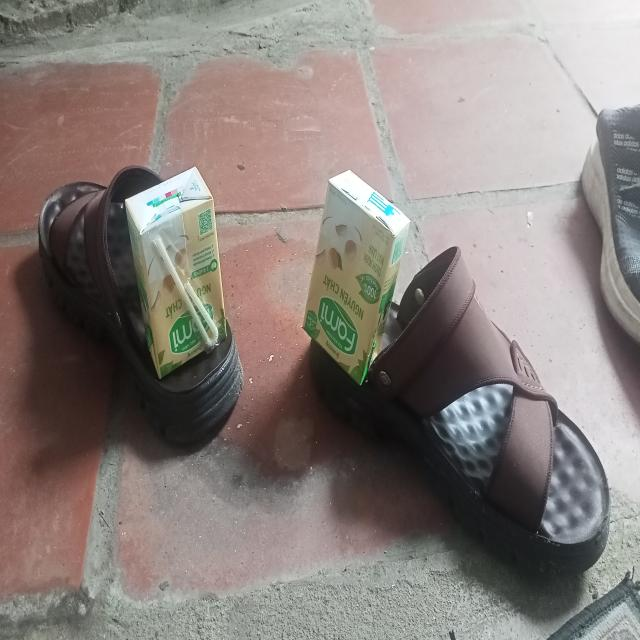Fami: (303, 170, 411, 387), (127, 168, 226, 381)
